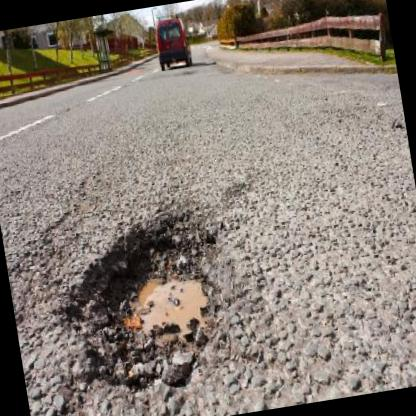pothole: (51, 202, 250, 410)
